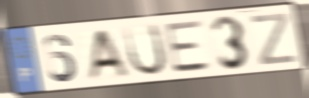3: (211, 14, 251, 72)
6: (42, 32, 79, 84)
A: (85, 27, 131, 83)
E: (163, 18, 214, 76)
U: (121, 21, 169, 79)
Z: (249, 11, 298, 67)
